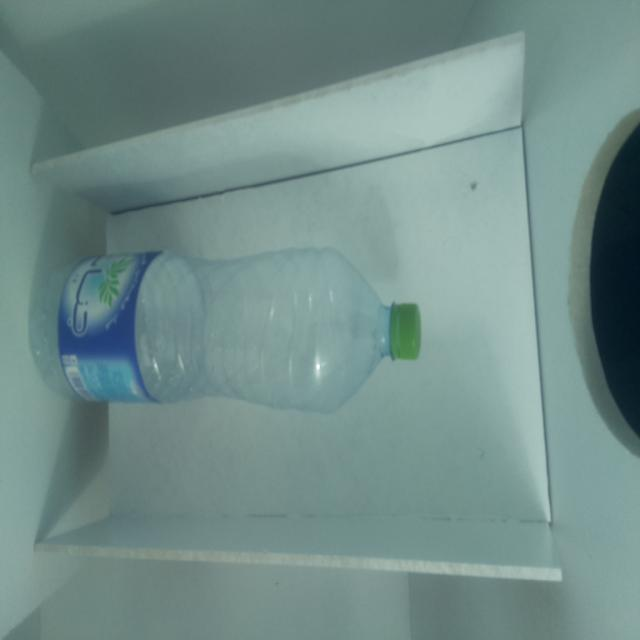Anorganik: (30, 239, 436, 415)
